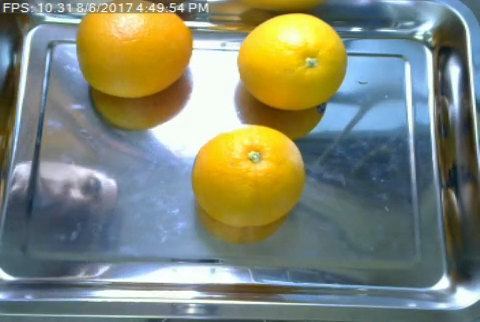Orange: (191, 122, 305, 226), (235, 12, 349, 112), (77, 1, 193, 98)
